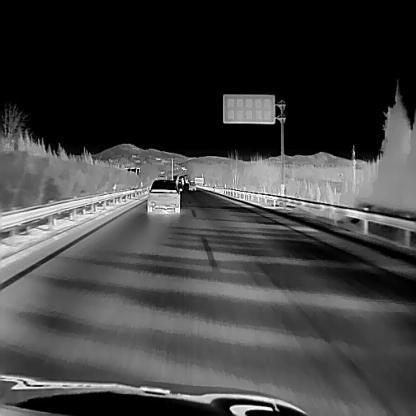car: (147, 177, 182, 214), (188, 180, 196, 190)
